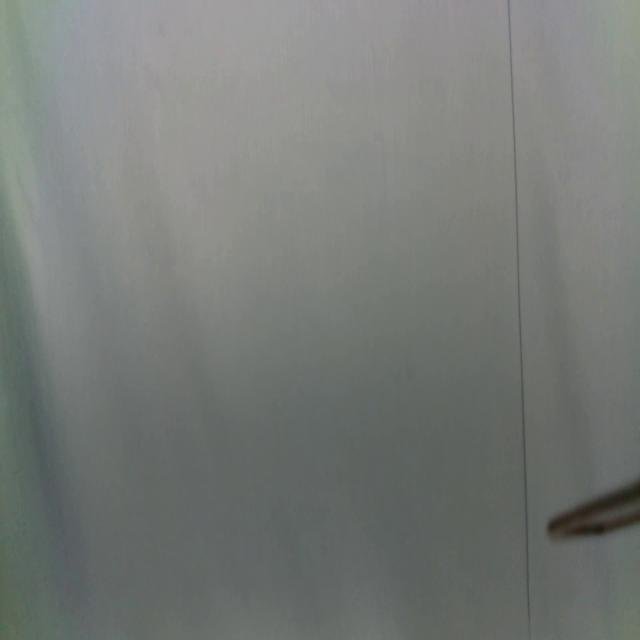crease: (507, 0, 532, 640)
